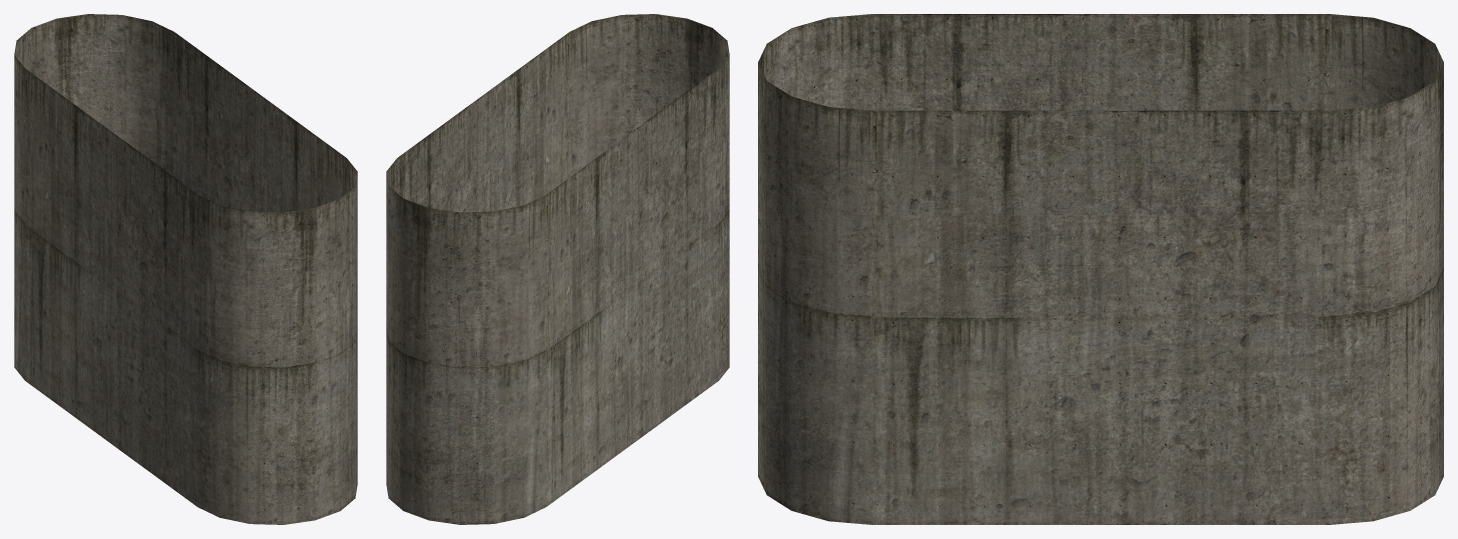
File: concrete_pillar.dae
3 renders of one model, left to right at view 1: azimuth 30°, elevation 25°; view 2: azimuth 150°, elevation 25°; view 3: azimuth 270°, elevation 25°, orthographic. The views are drawn at different scales.
Visible parts, largest first — view 1: polySurface127; view 2: polySurface127; view 3: polySurface127.
Part boxes in pixels (<box>): polySurface127: <box>14,14,357,524</box>; polySurface127: <box>386,14,729,524</box>; polySurface127: <box>758,14,1443,524</box>.
Size of the model in its own units: 2 by 4 by 6.
